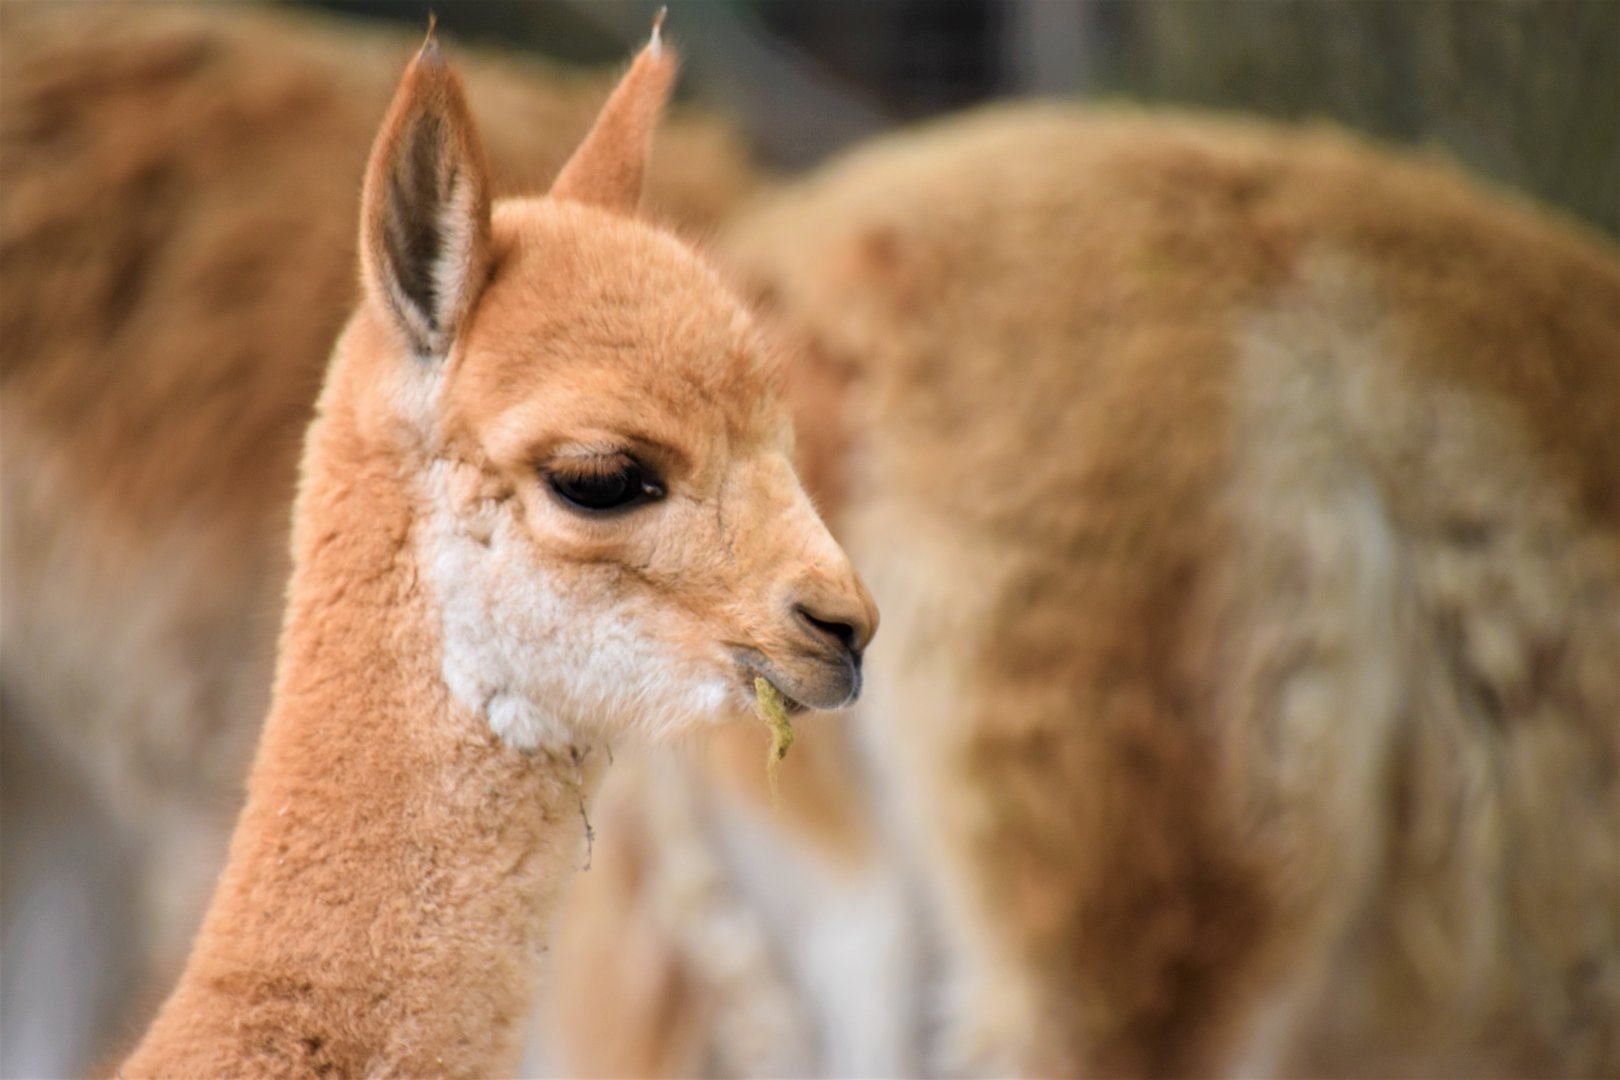eye: (515, 404, 675, 526)
mouth: (726, 636, 882, 736)
